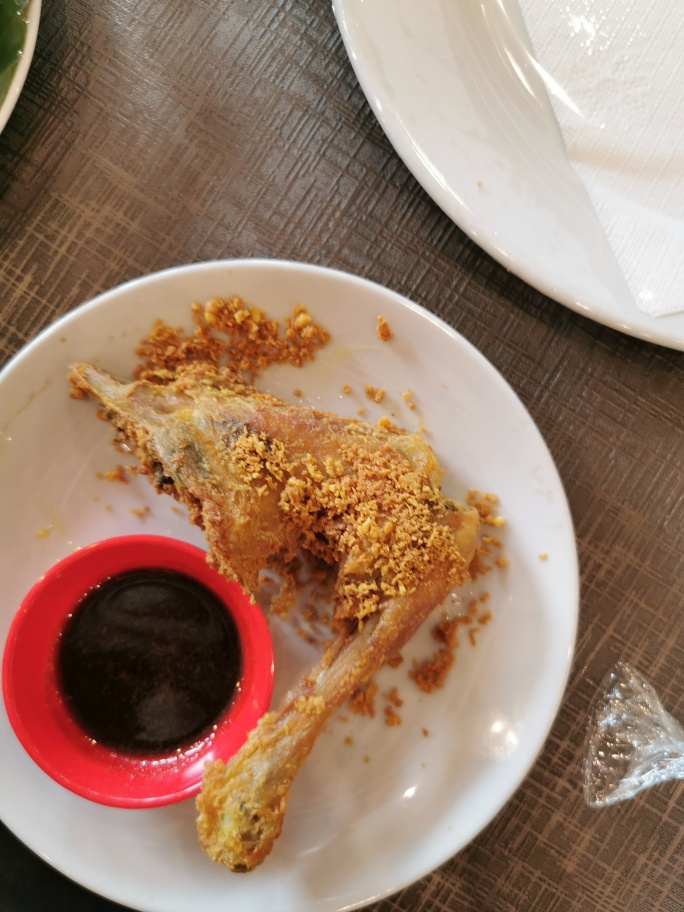ayam goreng: (65, 359, 487, 878)
kecap: (1, 533, 276, 815)
